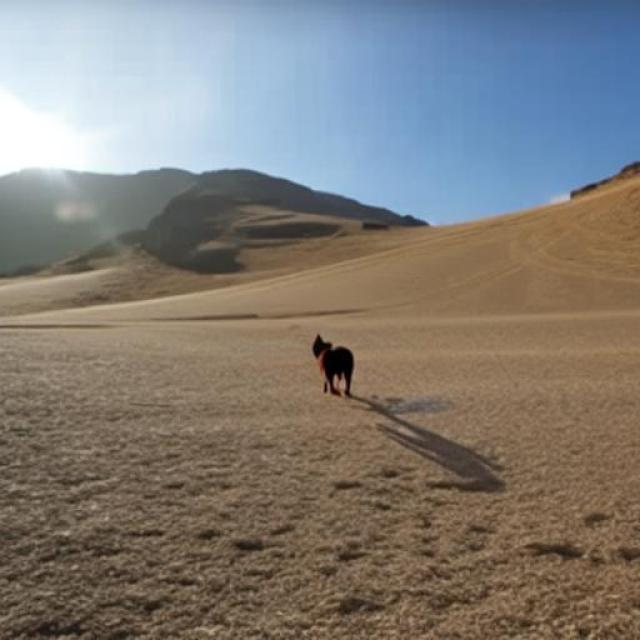Dog: (310, 334, 354, 396)
